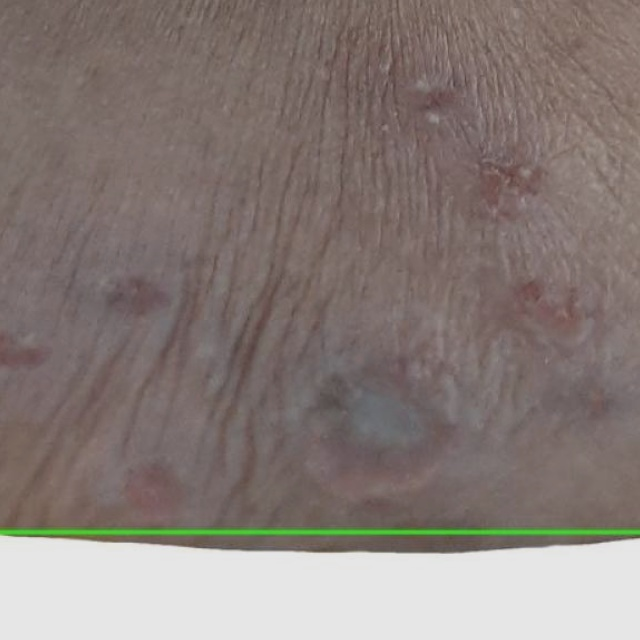Contact Dermatitis: (0, 532, 639, 639)
